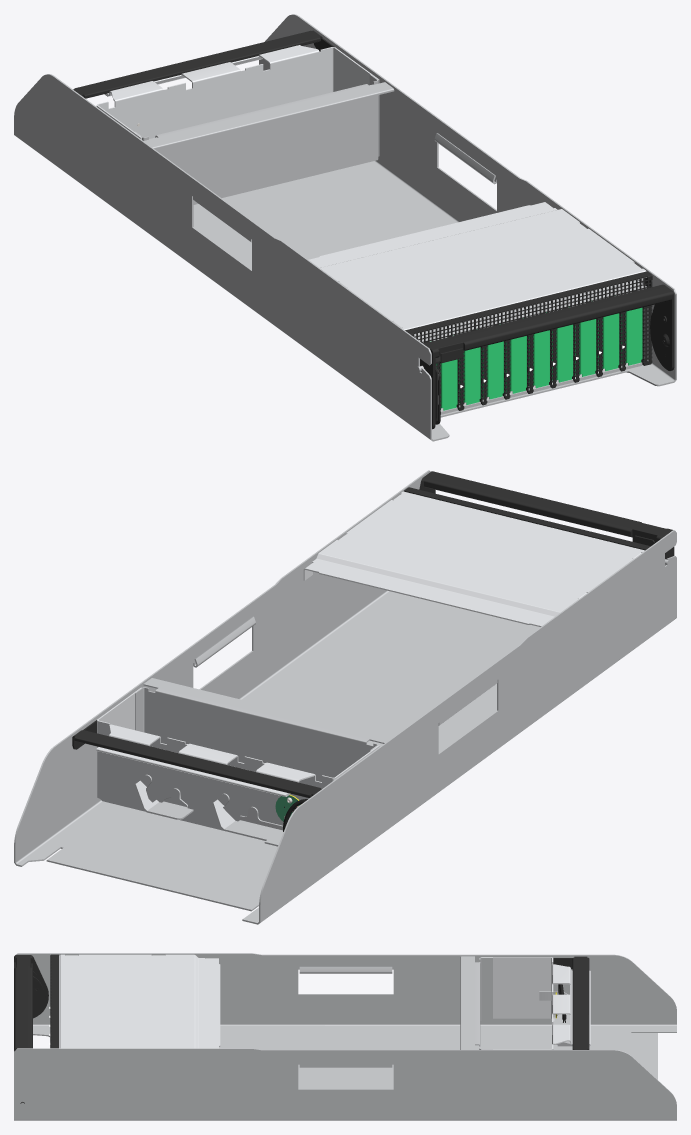
The model's file is cosmo-ext-1-geo.glb.
3 renders of one model, top to bottom at view 1: azimuth 30°, elevation 25°; view 2: azimuth 150°, elevation 25°; view 3: azimuth 270°, elevation 25°, orthographic. The views are drawn at different scales.
Visible parts, largest first — view 1: Frame_low.004_block.002, Frame_low.004_block.020, Plane.037, Plane.039, Plane.036, Plane.033, Plane.032, Plane.034, Plane.038, Plane.035, Plane.031; view 2: Frame_low.004_block.002, Frame_low.004_block.020; view 3: Frame_low.004_block.002, Frame_low.004_block.020.
Boxes of the visible parts, x1,y1,x2,y2 form: Frame_low.004_block.002: (14,14,676,441); Frame_low.004_block.020: (405,271,652,414); Plane.037: (575,319,596,376); Plane.039: (621,307,642,365); Plane.036: (552,307,573,382); Plane.033: (482,324,503,399); Plane.032: (459,347,480,404); Plane.034: (505,318,526,393); Plane.038: (598,313,619,371); Plane.035: (528,312,549,388); Plane.031: (436,335,457,410); Frame_low.004_block.002: (14,470,676,924); Frame_low.004_block.020: (404,487,650,550); Frame_low.004_block.002: (14,953,676,1120); Frame_low.004_block.020: (50,954,58,1048).
Bounding box in the file's own units: 0.2659 × 0.0928 × 0.765.
